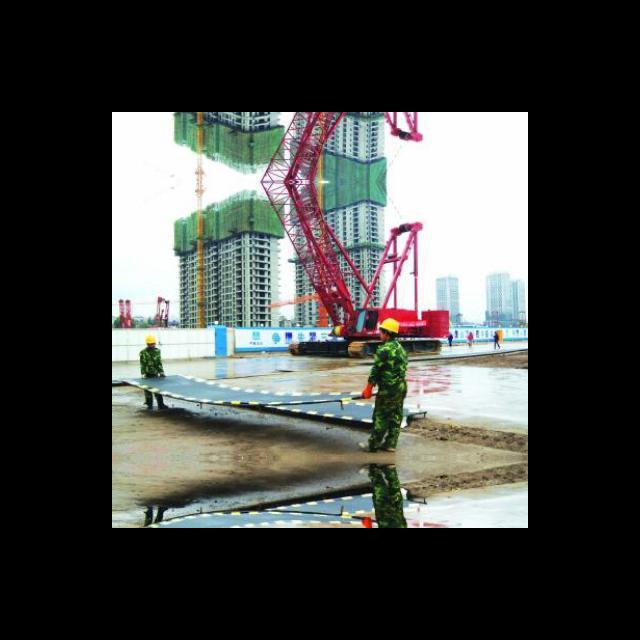Gloves: (362, 382, 373, 399), (160, 372, 166, 378), (141, 374, 146, 379)
Hardhat: (380, 317, 399, 333), (146, 336, 157, 344)
NO-Mask: (378, 333, 389, 340)
NO-Safety Vest: (376, 342, 406, 387), (140, 347, 162, 373)
Person: (360, 316, 407, 451), (139, 335, 169, 410), (493, 331, 501, 350), (467, 332, 474, 348), (448, 333, 453, 347)
